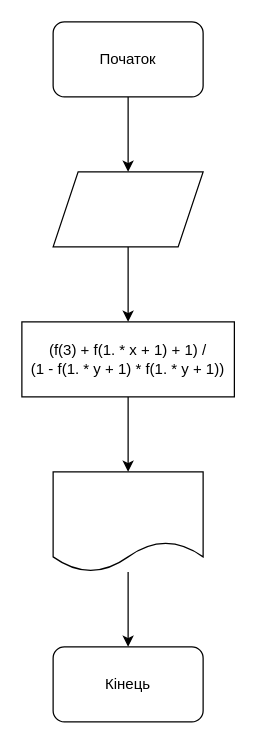
Some shapes in this 256 by 744 pixel diagram are drawn without their labels. Here are the shapes that lost their labels. From the top down, the centre of each, then its label:
At point 127,209: "x, y".
At point 127,521: "c =".
